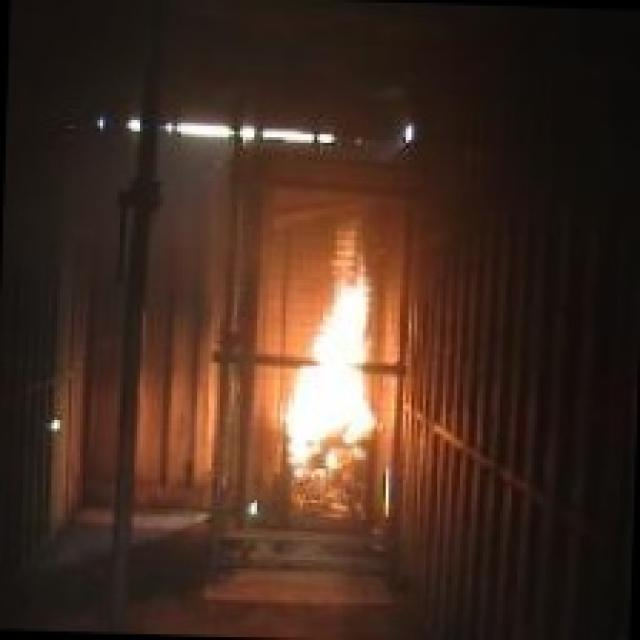fire: (262, 216, 398, 493)
